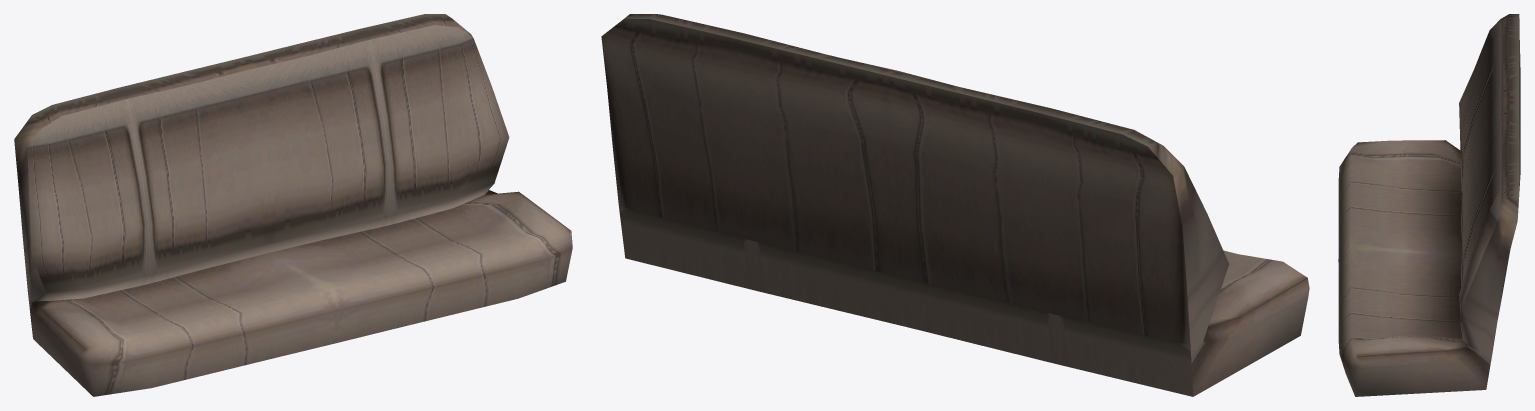
Rendered from back_seat.fbx.
3 views of the same model, side by side, from view 1: azimuth 30°, elevation 25°; view 2: azimuth 150°, elevation 25°; view 3: azimuth 270°, elevation 25° (orthographic). The views are drawn at different scales.
Parts seen in each view (by area): view 1: node_id517; view 2: node_id517; view 3: node_id517.
Part boxes in pixels (bbox=[...]): node_id517: bbox=[14, 14, 572, 396]; node_id517: bbox=[601, 14, 1309, 396]; node_id517: bbox=[1338, 14, 1520, 396].
Size of the model in its own units: 0.3735 by 0.1548 by 0.132.
1 material, 1 textured.
